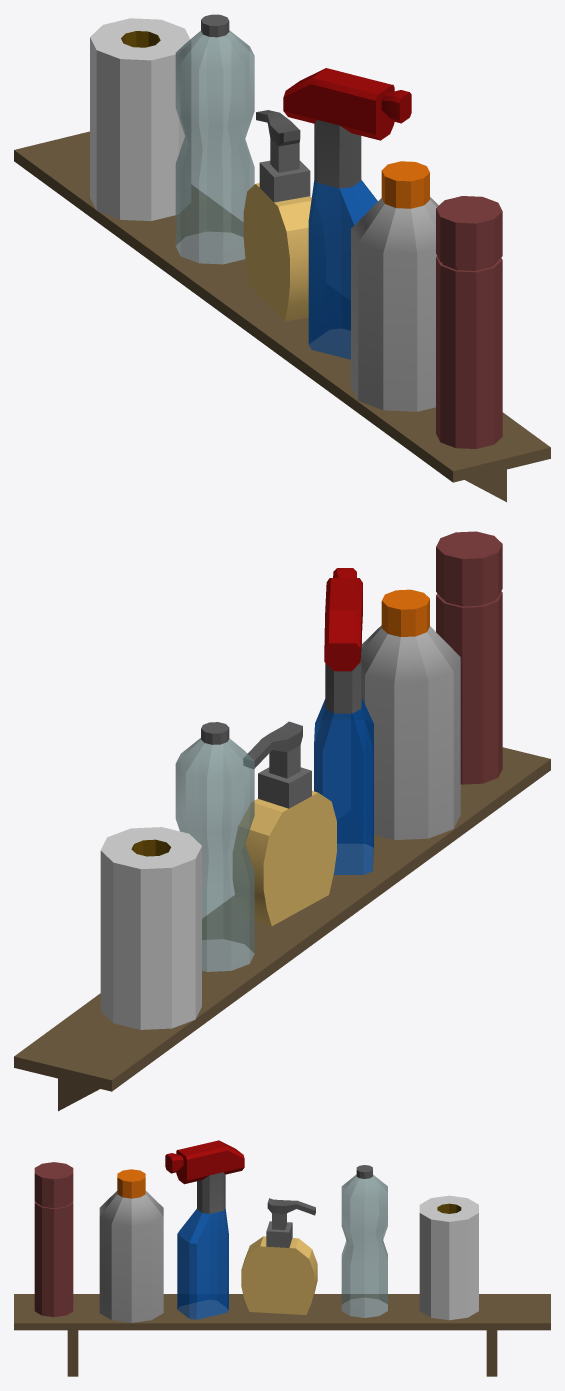
File: supplyShelf.fbx
The picture shows the model from 3 angles, top to bottom: view 1: azimuth 30°, elevation 25°; view 2: azimuth 150°, elevation 25°; view 3: azimuth 270°, elevation 25°; orthographic projection. The views are drawn at different scales.
Parts seen in each view (by area): view 1: pCube1, pCylinder4, pCylinder2, pCylinder3, pCube2, pCylinder1, pCube3; view 2: pCube1, pCylinder2, pCylinder4, pCube3, pCylinder3, pCube2, pCylinder1; view 3: pCube1, pCylinder2, pCube2, pCylinder4, pCylinder3, pCube3, pCylinder1.
Part boxes in pixels (x1=…): pCube1: x1=14, y1=131, x2=550, y2=502; pCylinder4: x1=90, y1=18, x2=190, y2=220; pCylinder2: x1=351, y1=161, x2=438, y2=411; pCylinder3: x1=175, y1=14, x2=254, y2=264; pCube2: x1=283, y1=68, x2=411, y2=359; pCylinder1: x1=436, y1=196, x2=502, y2=448; pCube3: x1=243, y1=110, x2=311, y2=321; pCube1: x1=14, y1=747, x2=550, y2=1111; pCylinder2: x1=362, y1=589, x2=460, y2=840; pCylinder4: x1=100, y1=827, x2=201, y2=1029; pCube3: x1=233, y1=721, x2=336, y2=926; pCylinder3: x1=175, y1=722, x2=254, y2=971; pCube2: x1=314, y1=568, x2=373, y2=874; pCylinder1: x1=436, y1=531, x2=502, y2=784; pCube1: x1=14, y1=1294, x2=550, y2=1376; pCylinder2: x1=99, y1=1169, x2=163, y2=1322; pCube2: x1=165, y1=1140, x2=244, y2=1319; pCylinder4: x1=419, y1=1195, x2=478, y2=1320; pCylinder3: x1=341, y1=1165, x2=387, y2=1317; pCube3: x1=241, y1=1198, x2=317, y2=1314; pCylinder1: x1=34, y1=1162, x2=73, y2=1317.
Bounding box in the file's own units: 3.4 × 11.6 × 26.26.
